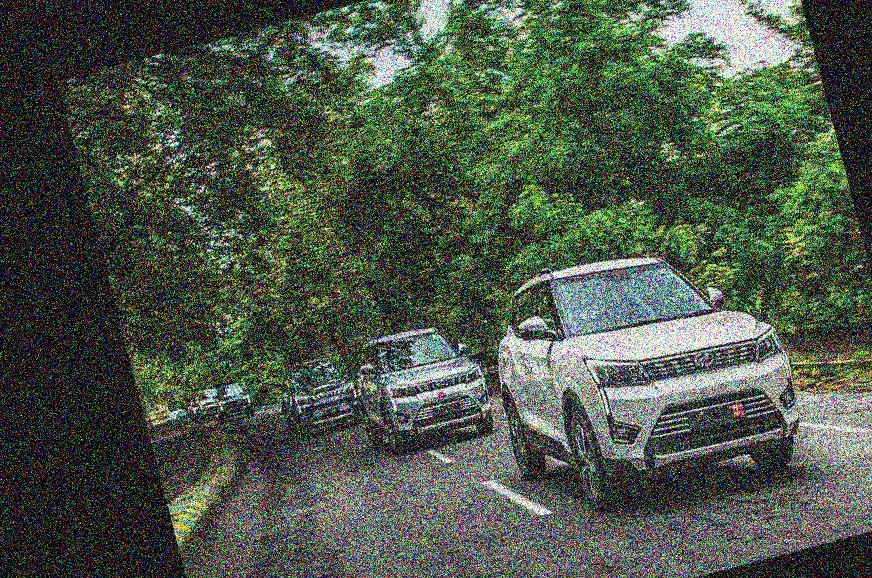car: (469, 212, 828, 540), (341, 301, 506, 469), (267, 339, 366, 451), (204, 356, 267, 437)
